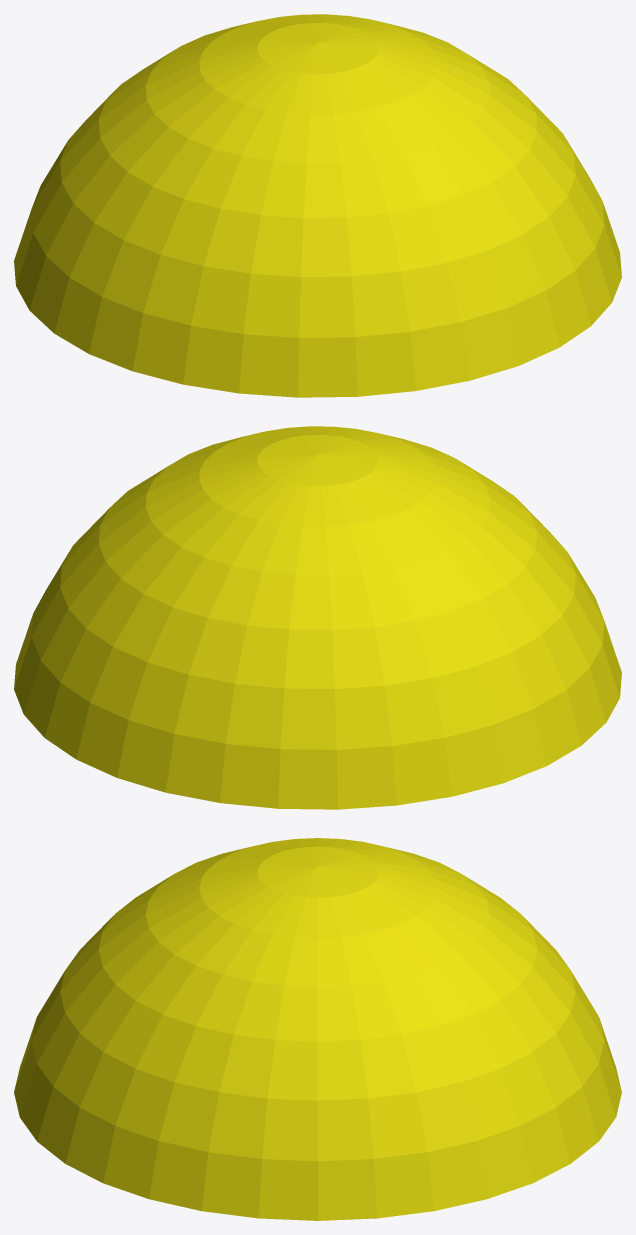
The model's file is SolidifySphere.fbx.
The picture shows the model from 3 angles, top to bottom: view 1: azimuth 30°, elevation 25°; view 2: azimuth 150°, elevation 25°; view 3: azimuth 270°, elevation 25°; orthographic projection.
Parts seen in each view (by area): view 1: Sphere; view 2: Sphere; view 3: Sphere.
Boxes of the visible parts, x1,y1,x2,y2 form: Sphere: [14, 14, 621, 397]; Sphere: [14, 426, 621, 809]; Sphere: [14, 838, 621, 1220].
Size of the model in its own units: 200 by 82.49 by 200.
